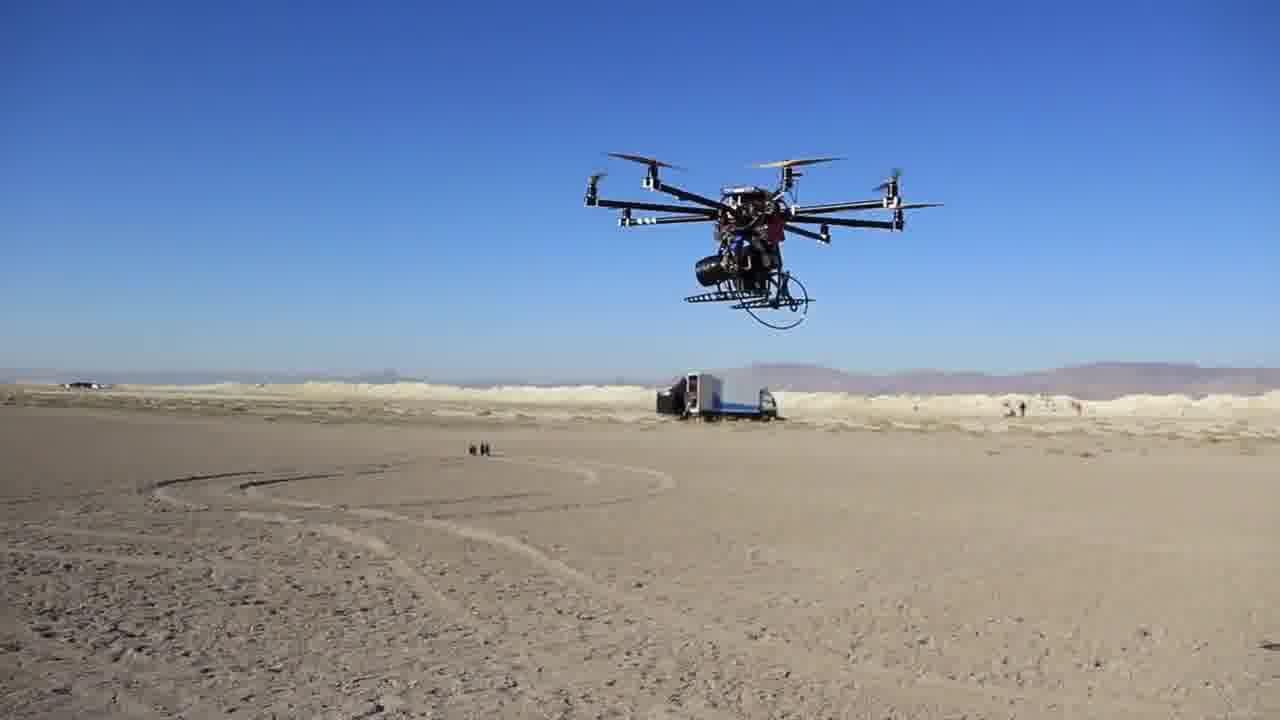drone: (573, 133, 858, 317)
